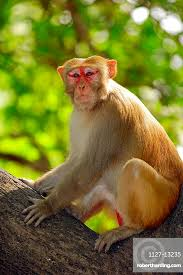monkey: (30, 20, 169, 252)
